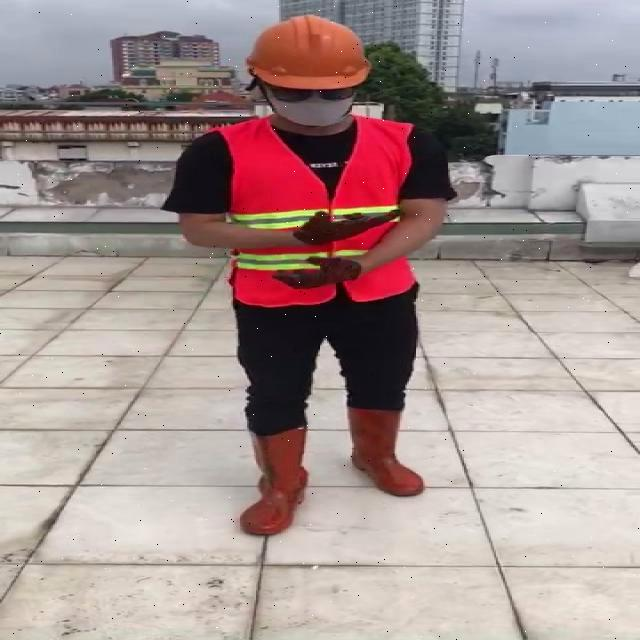Hard_hat: (239, 12, 372, 93)
Person: (156, 10, 466, 553)
Vest: (220, 112, 408, 314)
